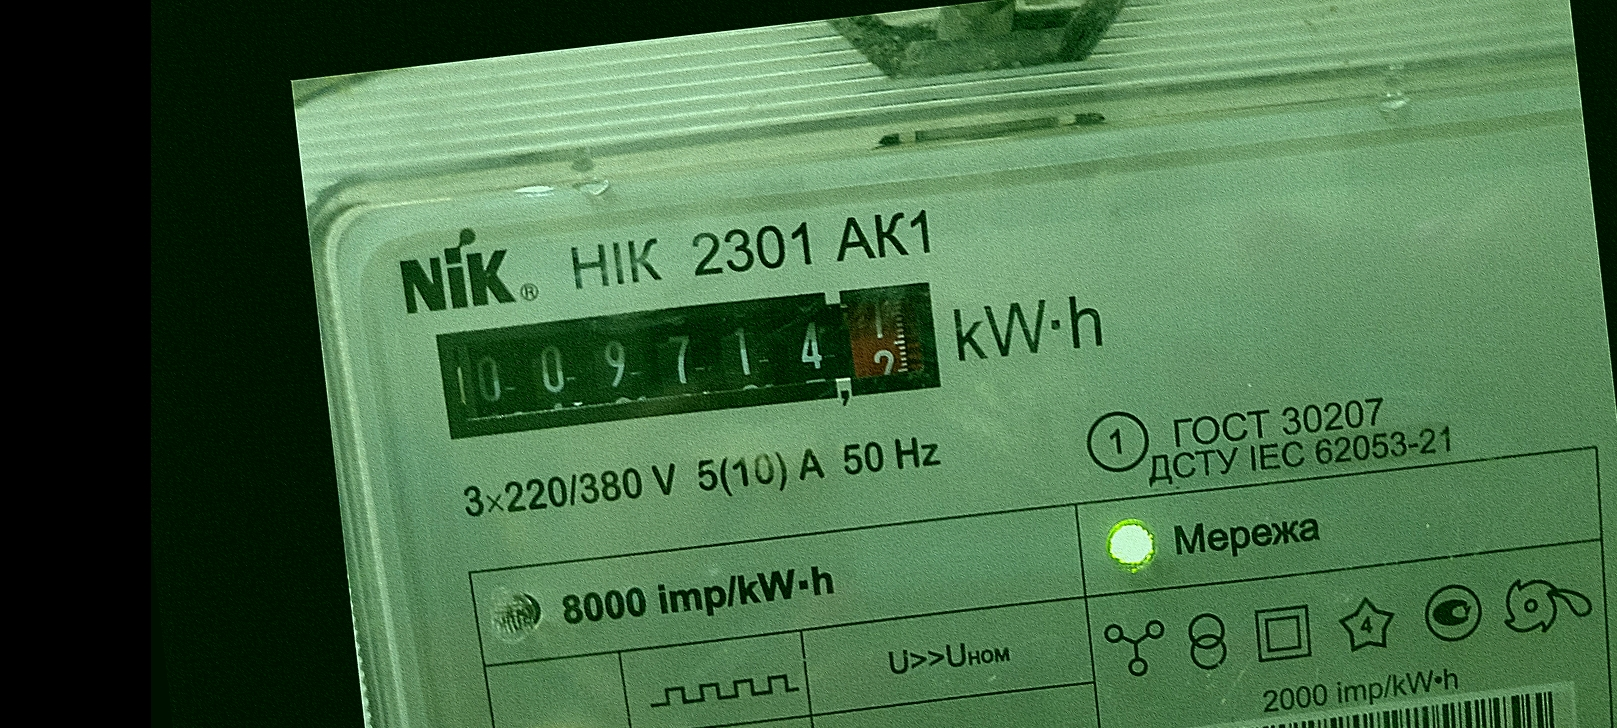0: (473, 352, 508, 408), (537, 342, 569, 398)
1: (730, 323, 759, 380), (869, 299, 888, 343)
2: (872, 346, 899, 379)
4: (795, 319, 829, 376)
7: (666, 333, 698, 389)
9: (599, 337, 633, 392)
screen: (421, 263, 961, 464)
